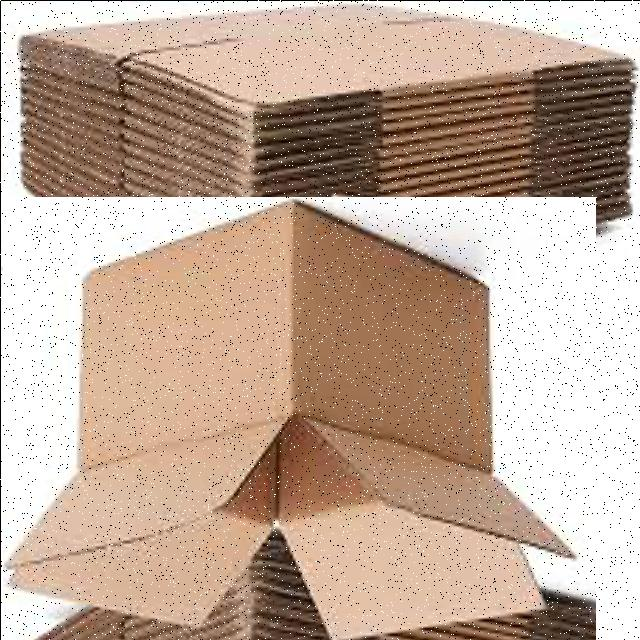defect: (2, 196, 595, 639)
